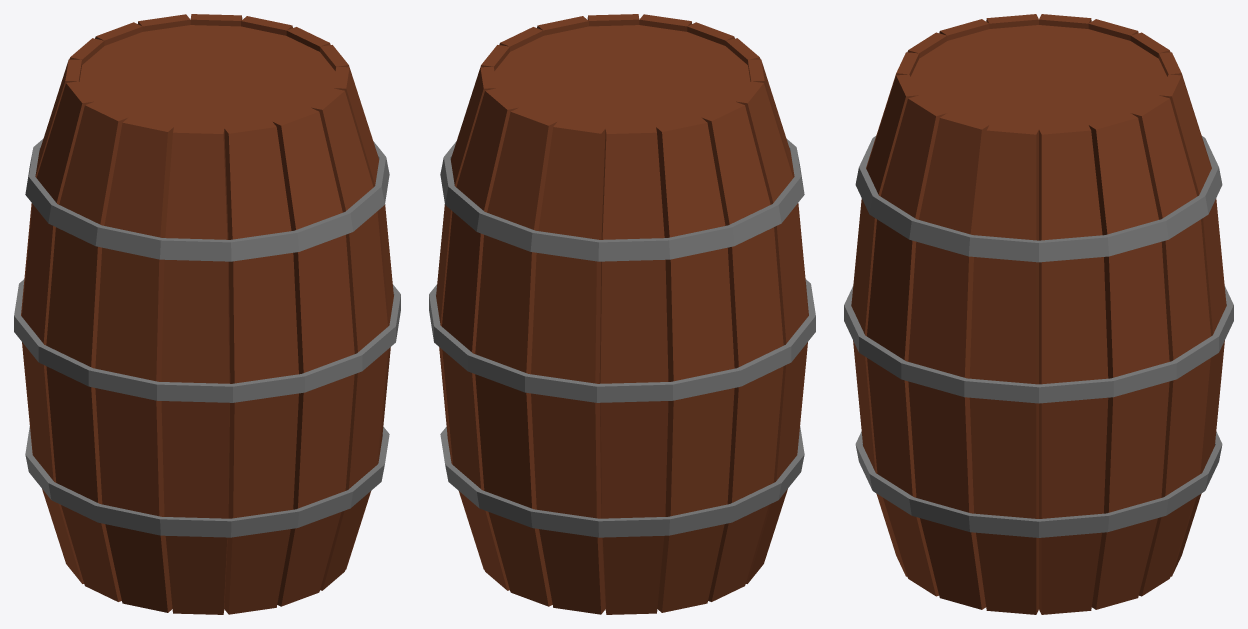
Rendered from Barel.fbx.
3 views of the same model, side by side, from view 1: azimuth 30°, elevation 25°; view 2: azimuth 150°, elevation 25°; view 3: azimuth 270°, elevation 25° (orthographic).
Parts seen in each view (by area): view 1: Board.013, Board.014, Board.015, Board.012, Cap, Board, Board.011, Board.001, Ring, Ring.001, Ring.002, Board.010 (+5 smaller); view 2: Board.004, Board.003, Board.002, Board.005, Cap, Board.001, Board.006, Board, Ring, Ring.001, Ring.002, Board.007 (+5 smaller); view 3: Board.008, Board.009, Board.007, Board.010, Cap, Board.006, Board.011, Ring, Ring.001, Ring.002, Board.005, Board.012 (+6 smaller).
Part boxes in pixels (x1,y1,x2,y2): Board.013: (224,121,298,614); Board.014: (161,127,230,614); Board.015: (95,117,173,612); Board.012: (272,107,354,606); Cap: (79,25,335,128); Board: (46,101,128,601); Board.011: (311,88,387,590); Board.001: (21,81,94,583); Ring: (25,138,389,261); Ring.001: (14,279,400,402); Ring.002: (25,426,389,537); Board.010: (333,67,393,569); Board.004: (531,121,605,614); Board.003: (599,127,668,614); Board.002: (656,117,734,612); Board.005: (475,107,557,606); Cap: (494,25,750,128); Board.001: (701,101,783,601); Board.006: (442,88,518,590); Board: (735,81,808,583); Ring: (440,138,804,261); Ring.001: (429,279,815,402); Ring.002: (440,426,804,537); Board.007: (436,67,496,569); Board.008: (1039,125,1108,614); Board.009: (969,125,1038,614); Board.007: (1089,113,1169,609); Board.010: (908,113,988,609); Cap: (910,25,1167,128); Board.006: (1131,95,1210,596); Board.011: (867,95,946,596); Ring: (855,136,1222,262); Ring.001: (844,286,1233,403); Ring.002: (855,431,1222,537); Board.005: (1159,74,1226,576); Board.012: (851,74,918,576).
Size of the model in its own units: 66.29 by 90.12 by 66.29.
